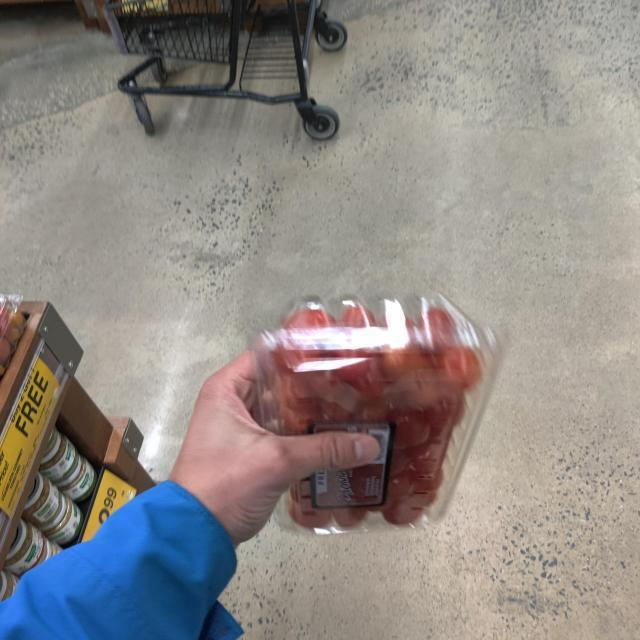Tomatoes: (246, 286, 514, 554)
